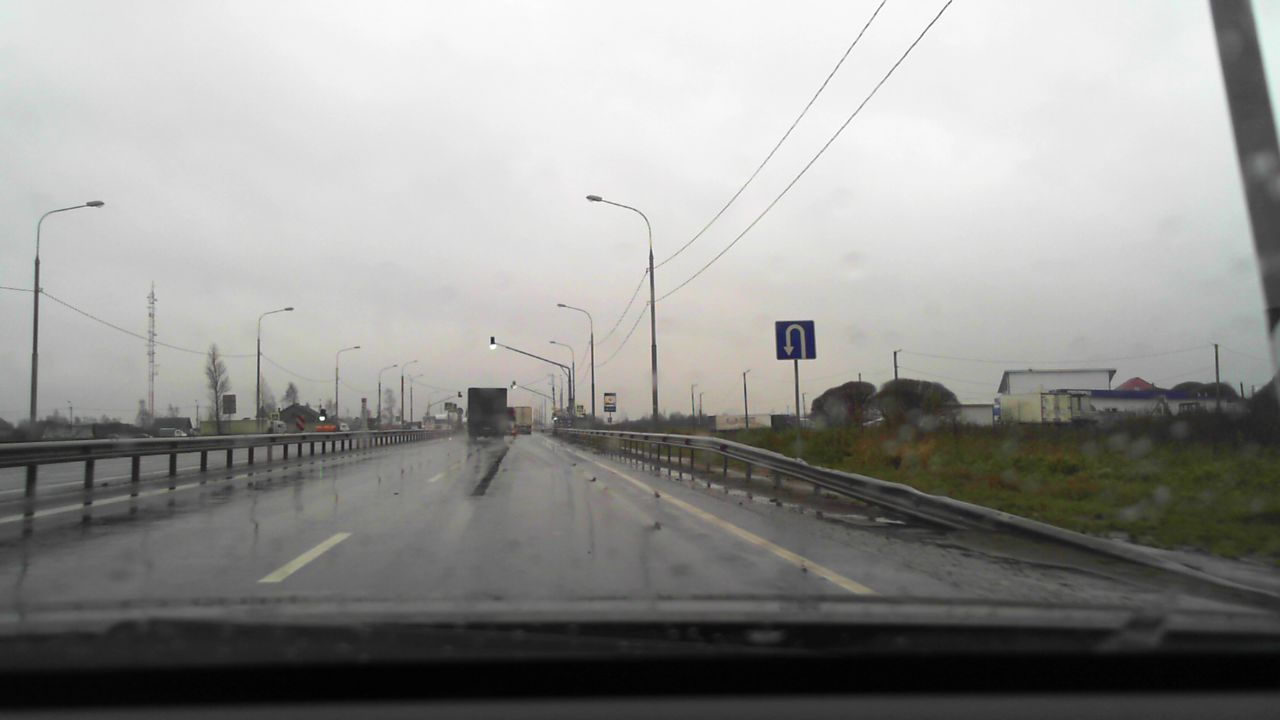U-turn: (775, 321, 816, 360)
